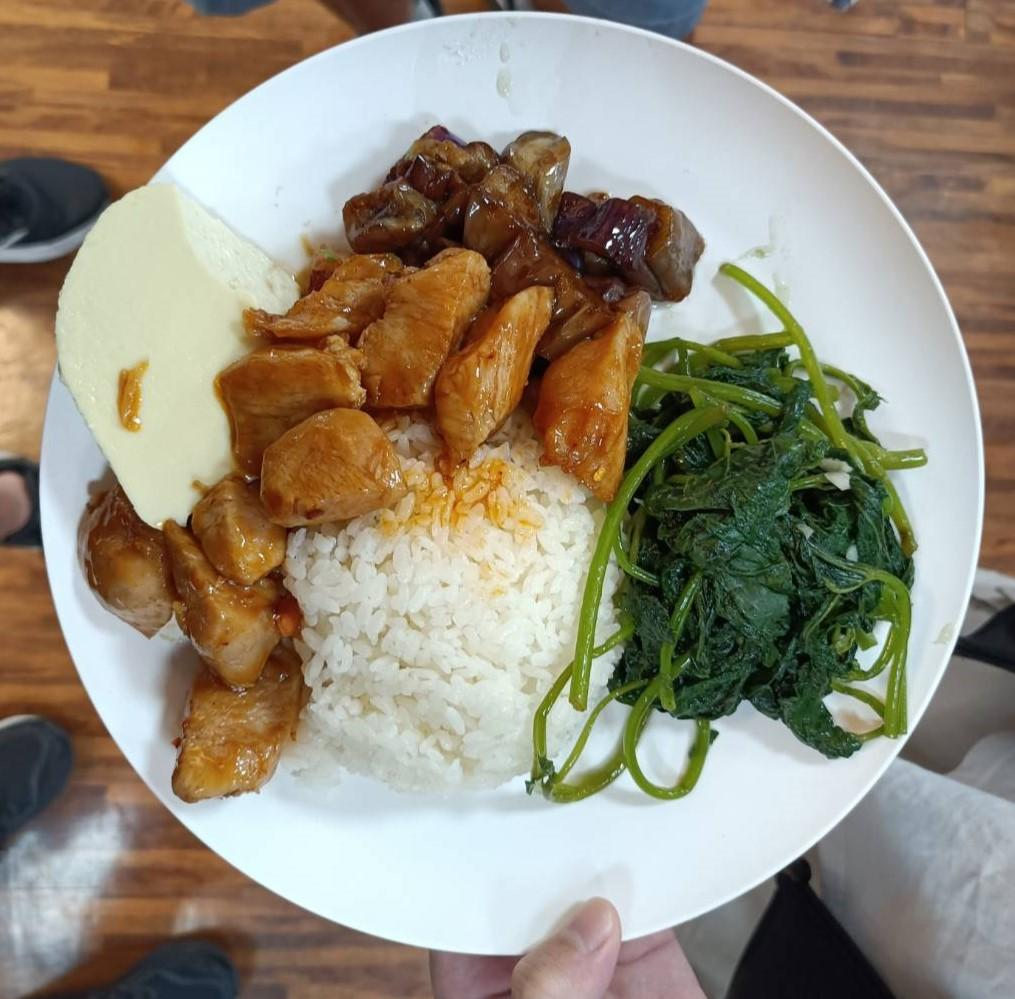big fried chicken leg: (16, 14, 995, 972)
big herbal chicken leg: (295, 422, 622, 785)
braised fish fillet: (616, 334, 919, 774), (50, 174, 304, 523), (330, 123, 708, 275)
braised pork: (87, 254, 651, 800)
